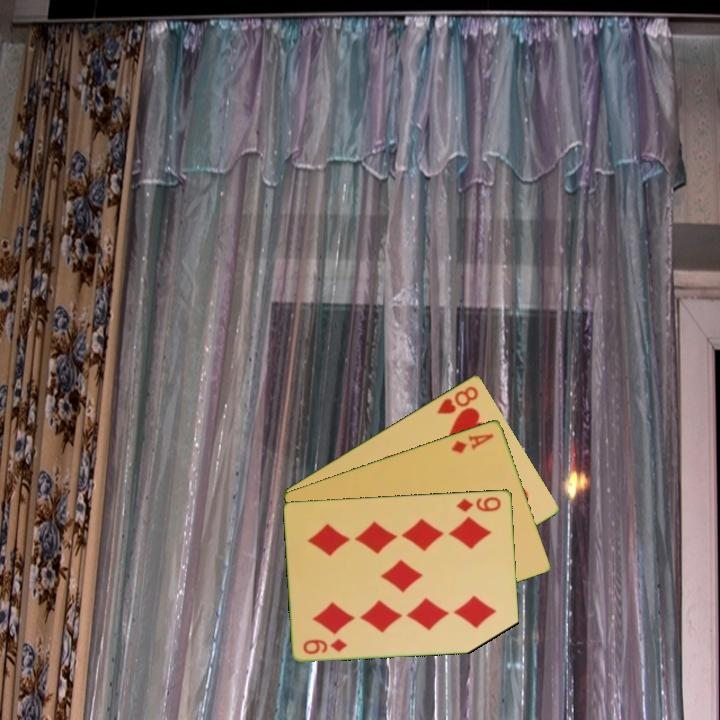8h: (433, 382, 481, 417)
9d: (300, 635, 350, 657), (453, 493, 504, 514)
Ad: (448, 430, 497, 456)
